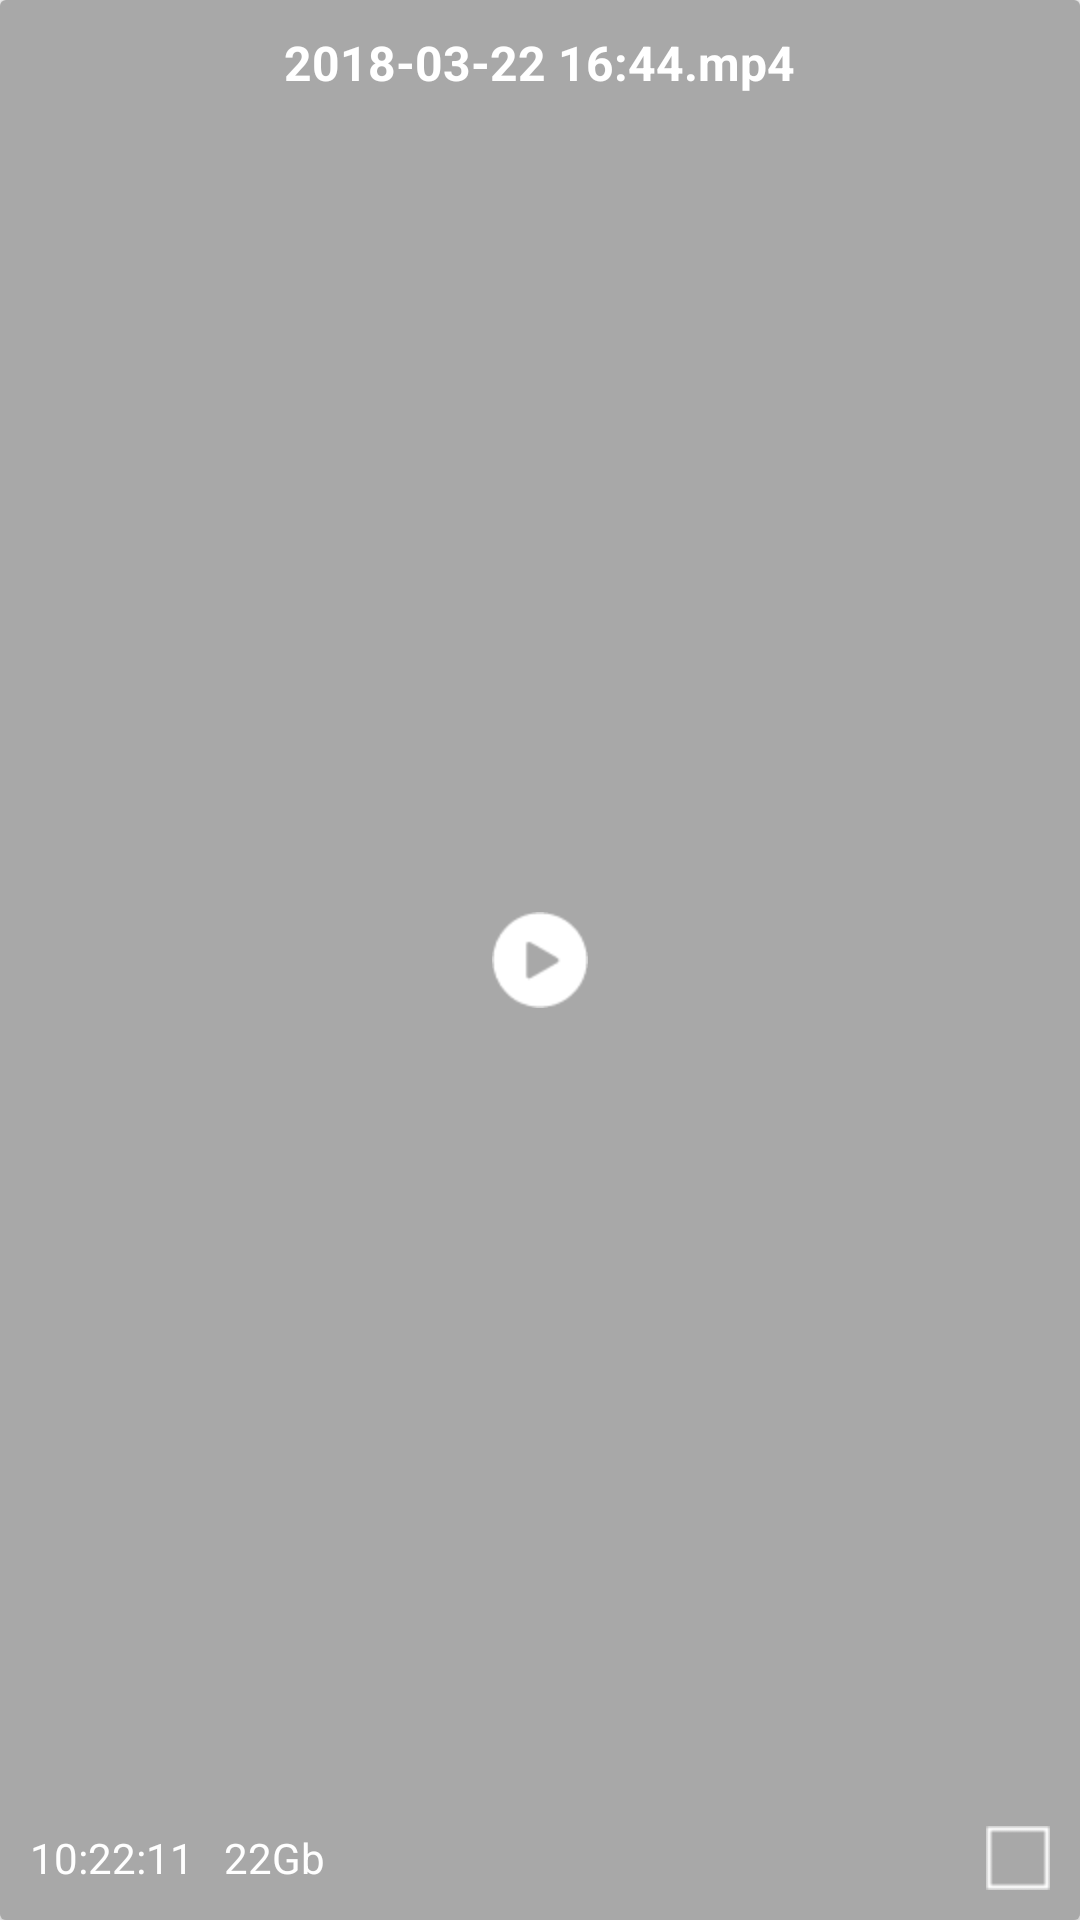

Named icons in this screenshot (1080x1920) and their centers, [x,y]:
play: [540,960]
